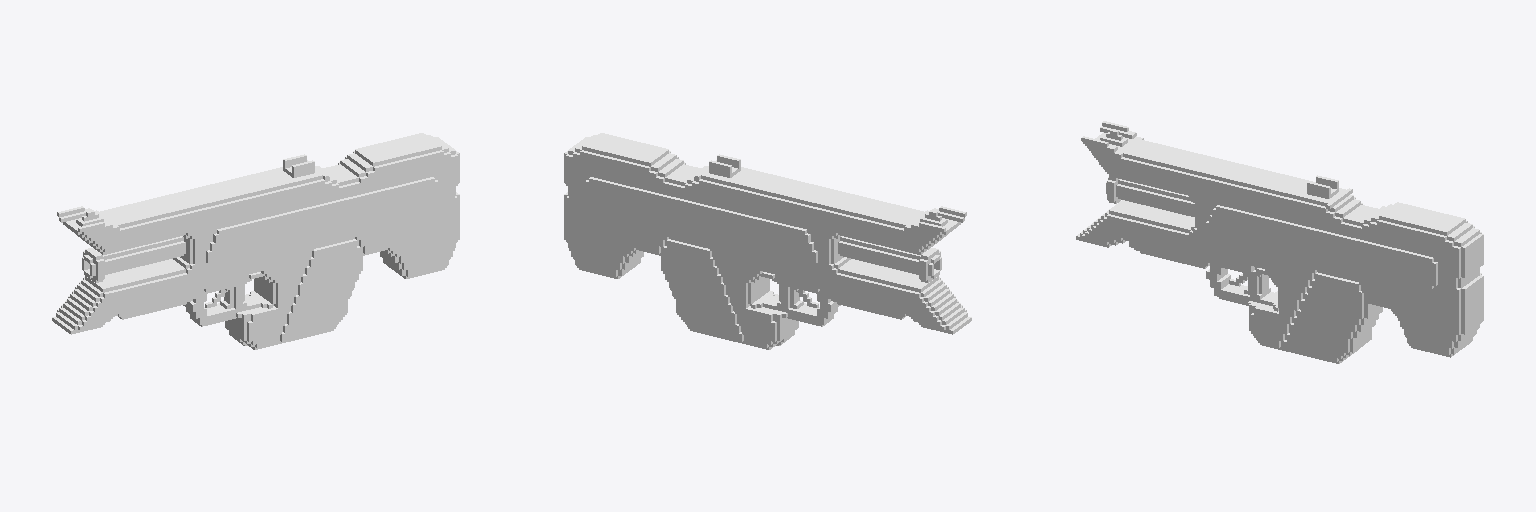
File: AlienRifle.obj
3 views of the same model, side by side, from view 1: azimuth 30°, elevation 25°; view 2: azimuth 150°, elevation 25°; view 3: azimuth 330°, elevation 25° (orthographic).
Parts seen in each view (by area): view 1: object 1; view 2: object 1; view 3: object 1.
Part boxes in pixels (x1,y1,x2,y2): object 1: (52,133,459,349); object 1: (564,133,971,349); object 1: (1076,121,1483,363).
Size of the model in its own units: 10.8 by 4.5 by 1.3.